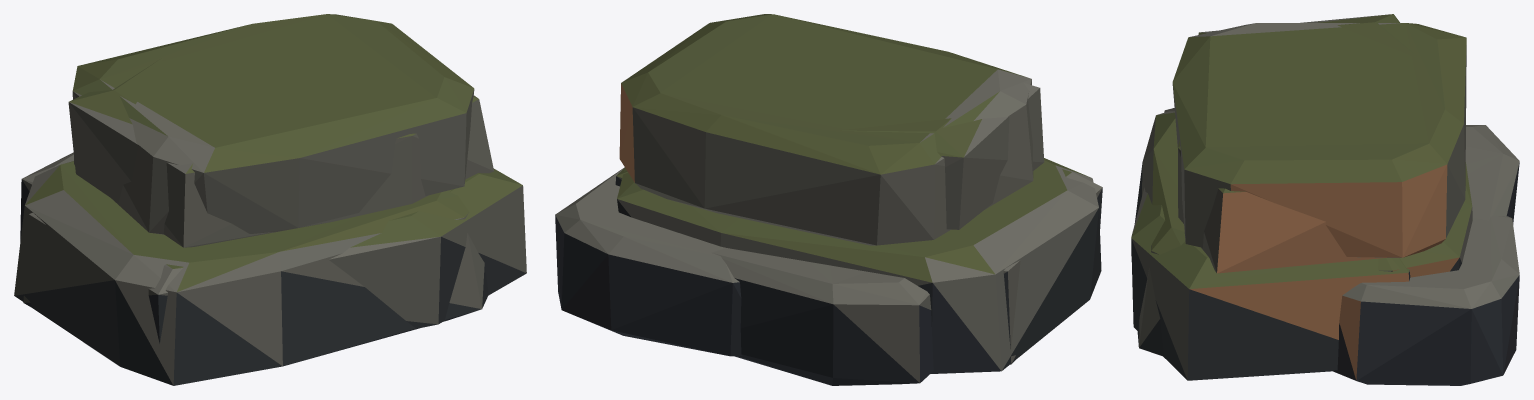
The model's file is rock_river_boulder_c.glb.
3 views of the same model, side by side, from view 1: azimuth 30°, elevation 25°; view 2: azimuth 150°, elevation 25°; view 3: azimuth 270°, elevation 25° (orthographic). The views are drawn at different scales.
Visible parts, largest first — view 1: rock_river_boulder_c_LOD0_stone, rock_river_boulder_c_LOD1_stone; view 2: rock_river_boulder_c_LOD0_stone, rock_river_boulder_c_LOD1_stone; view 3: rock_river_boulder_c_LOD0_stone, rock_river_boulder_c_LOD1_stone.
Boxes of the visible parts, bbox=[...] form: rock_river_boulder_c_LOD0_stone: bbox=[14, 14, 488, 385]; rock_river_boulder_c_LOD1_stone: bbox=[20, 56, 526, 343]; rock_river_boulder_c_LOD0_stone: bbox=[555, 14, 1101, 373]; rock_river_boulder_c_LOD1_stone: bbox=[615, 83, 1102, 385]; rock_river_boulder_c_LOD0_stone: bbox=[1131, 23, 1519, 385]; rock_river_boulder_c_LOD1_stone: bbox=[1131, 14, 1519, 380].
Bounding box in the file's own units: 1.06 × 0.5279 × 0.8641.
